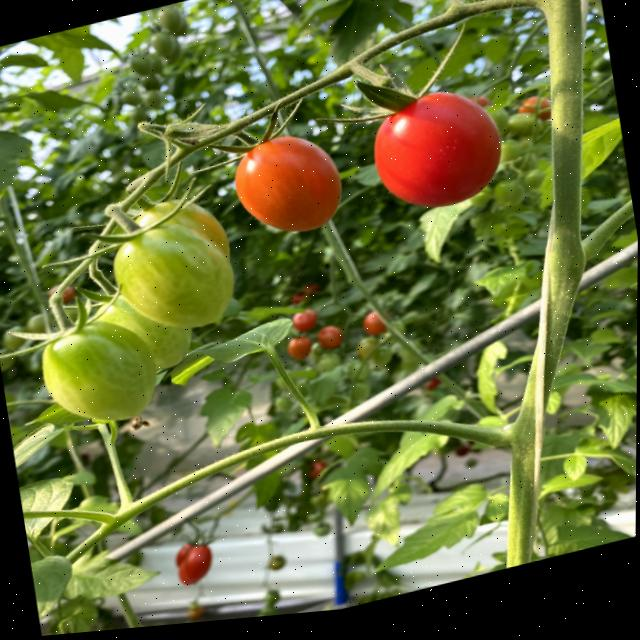ripe2: (366, 78, 507, 222), (229, 123, 348, 247)
